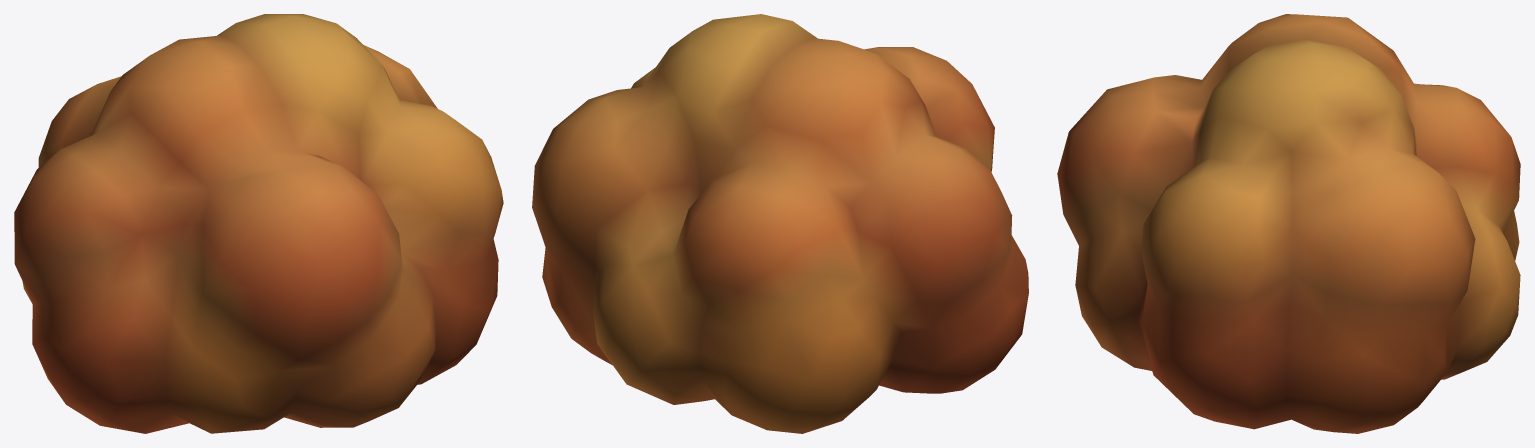
Rendered from bush-a-autumn.glb.
The picture shows the model from 3 angles, left to right: view 1: azimuth 30°, elevation 25°; view 2: azimuth 150°, elevation 25°; view 3: azimuth 270°, elevation 25°; orthographic projection. The views are drawn at different scales.
Parts seen in each view (by area): view 1: bush-a-autumn; view 2: bush-a-autumn; view 3: bush-a-autumn.
Boxes of the visible parts, x1,y1,x2,y2 form: bush-a-autumn: (14,14,503,433); bush-a-autumn: (532,14,1028,433); bush-a-autumn: (1057,14,1520,433).
Size of the model in its own units: 0.9985 by 0.8037 by 0.9643.
